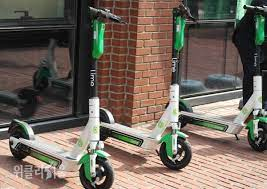kick_board: (8, 6, 136, 189)
kick_handler: (86, 7, 127, 24), (173, 4, 196, 20)
kick_neck: (89, 26, 104, 144), (169, 20, 183, 122), (253, 19, 266, 108)
kick_wheel: (82, 152, 112, 189), (161, 133, 191, 169), (9, 120, 30, 157), (248, 118, 267, 149)
